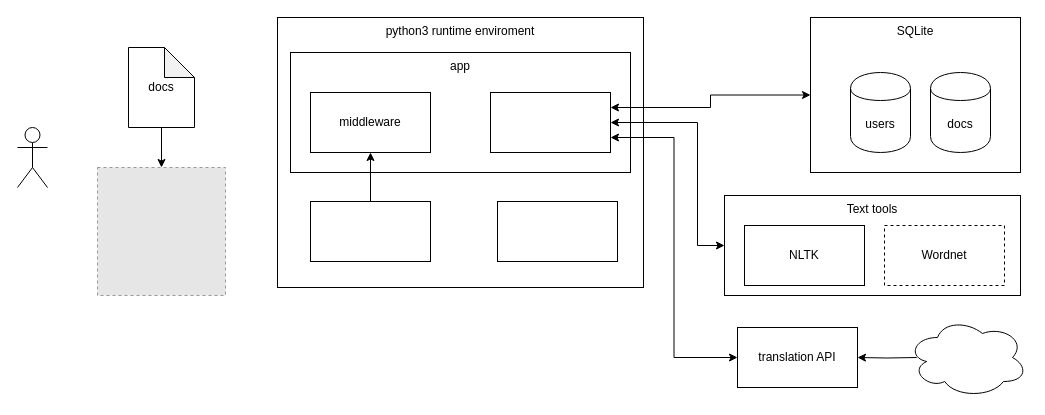
This 1045x415 diagram has some shape labels left out. Grey dashed boxes stand in for pictures. The shapes that lost their labels are listed below. From the top down, each one's centre as x and y in pixels, then its label:
the point at 550,122: backend
the point at 32,157: Actor
the point at 370,231: assets views
the point at 557,231: Django
the point at 967,357: Google
